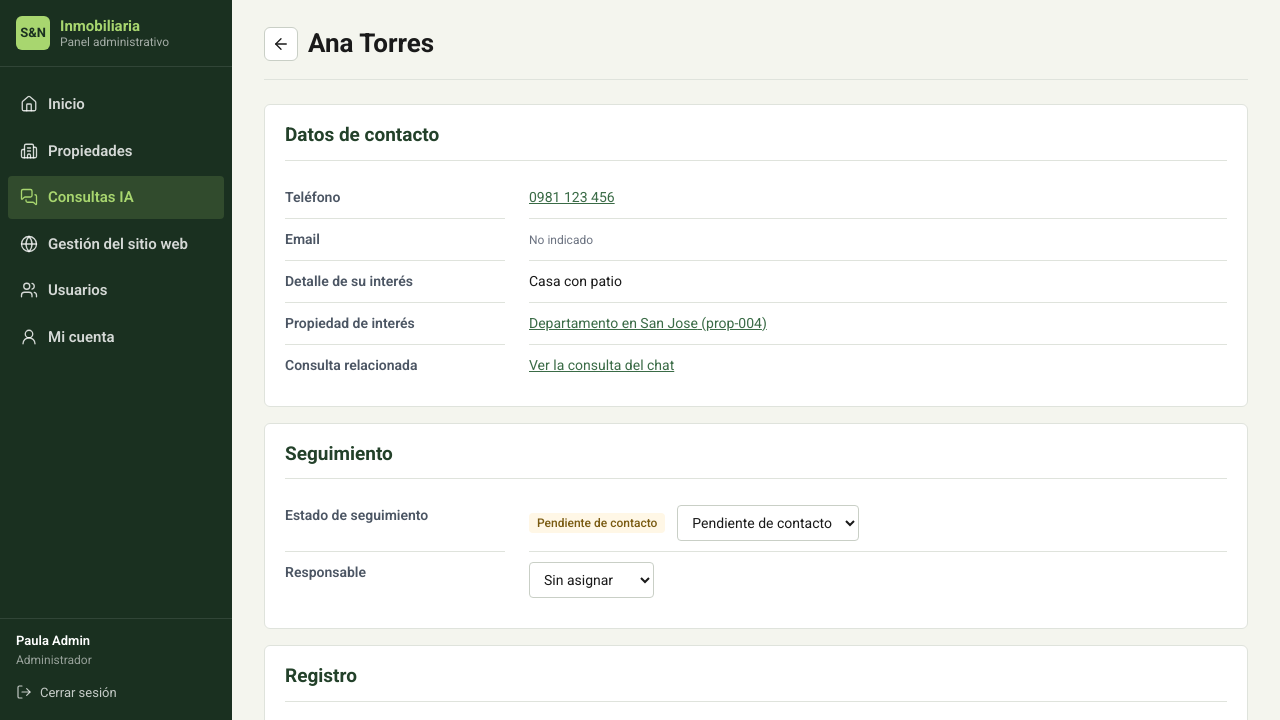
Test case: Clientes potenciales › detalle: cambiar estado y asignar responsable (ADMIN), con la aceptación registrada
Check: the heading "Datos de contacto" is shown, box [285,121,1227,160]
Select "Contactado" in the dropdown named "Cambiar estado" at (768, 523), box [677,505,859,541]
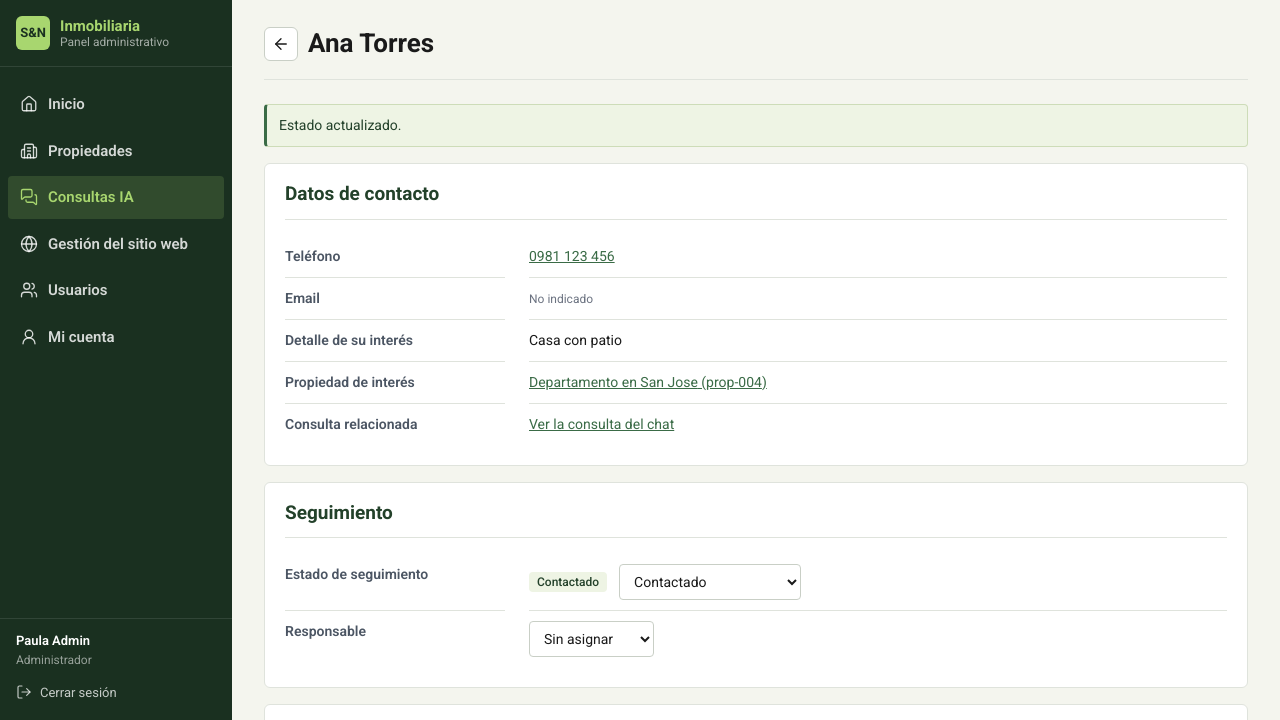
Check: the text "Estado actualizado." is shown, box [264,104,1248,147]
Select "Vera Prueba" in the dropdown named "Responsable" at (592, 639), box [529,621,654,657]
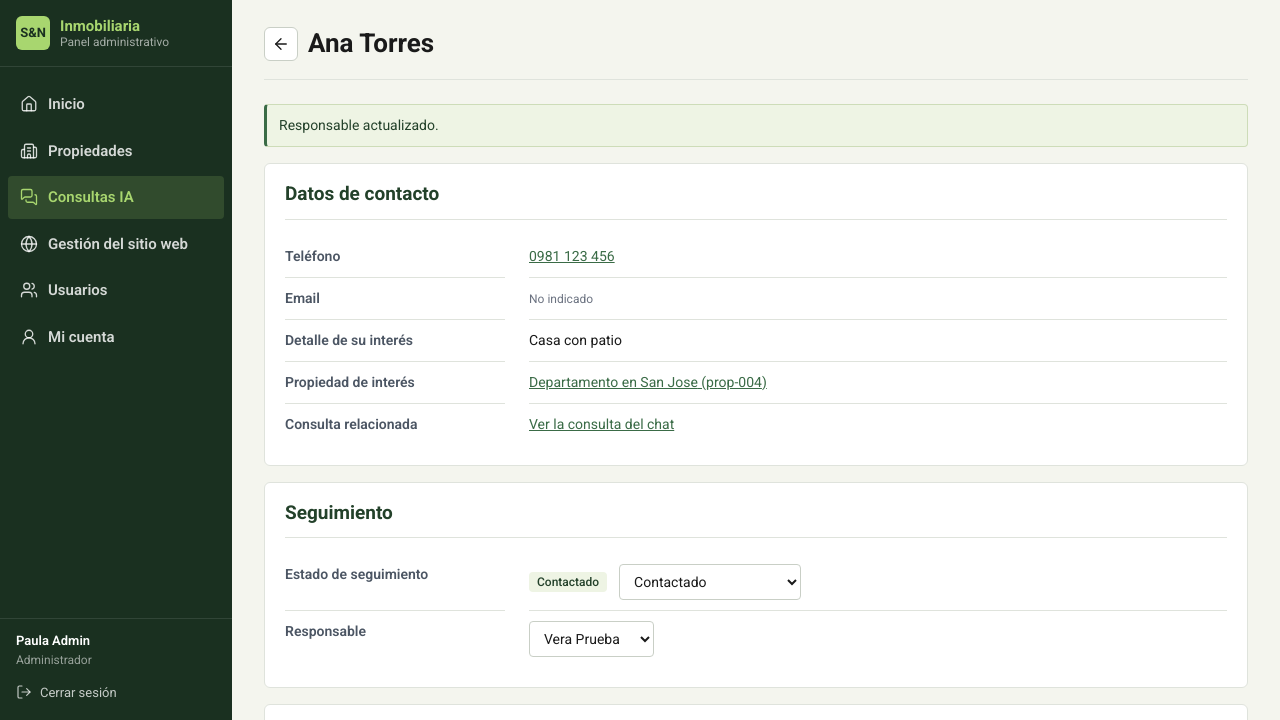
Check: the text "Responsable actualizado." is shown, box [264,104,1248,147]
